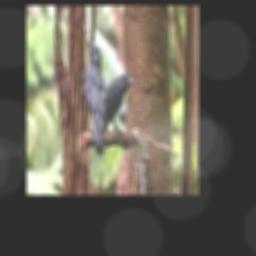Crow: (95, 73, 133, 158), (86, 40, 104, 155)
